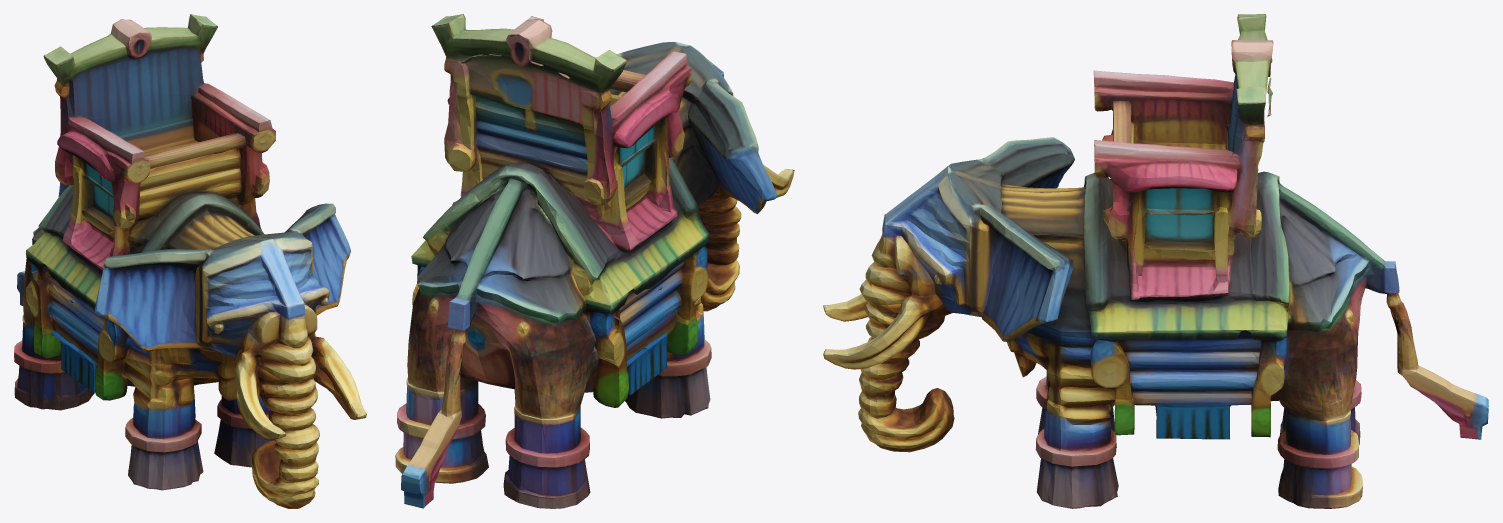
3 views of the same model, side by side, from view 1: azimuth 30°, elevation 25°; view 2: azimuth 150°, elevation 25°; view 3: azimuth 270°, elevation 25° (orthographic). The views are drawn at different scales.
Visible parts, largest first — view 1: world; view 2: world; view 3: world.
Part boxes in pixels (x1,y1,x2,y2): world: (14, 14, 366, 508); world: (395, 14, 794, 508); world: (823, 14, 1488, 508).
Bounding box in the file's own units: 0.4932 × 0.6982 × 0.9934.
Materials: 1 (1 with a texture image).
